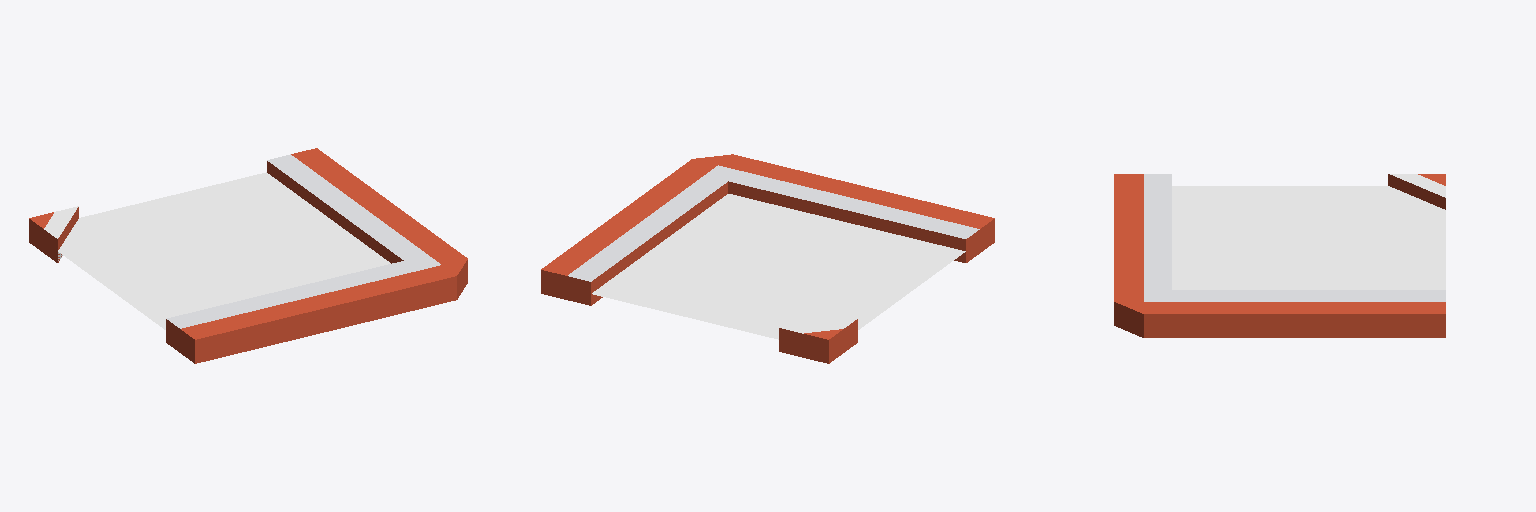
Rendered from metalTileConnectCornerInner.obj.
3 renders of one model, left to right at view 1: azimuth 30°, elevation 25°; view 2: azimuth 150°, elevation 25°; view 3: azimuth 270°, elevation 25°, orthographic.
Visible parts, largest first — view 1: metalTileConnectCornerInner; view 2: metalTileConnectCornerInner; view 3: metalTileConnectCornerInner.
Part boxes in pixels (bbox=[...]): metalTileConnectCornerInner: bbox=[29, 148, 467, 363]; metalTileConnectCornerInner: bbox=[541, 154, 994, 363]; metalTileConnectCornerInner: bbox=[1114, 174, 1445, 337].
Bounding box in the file's own units: 10 × 0.8 × 10.